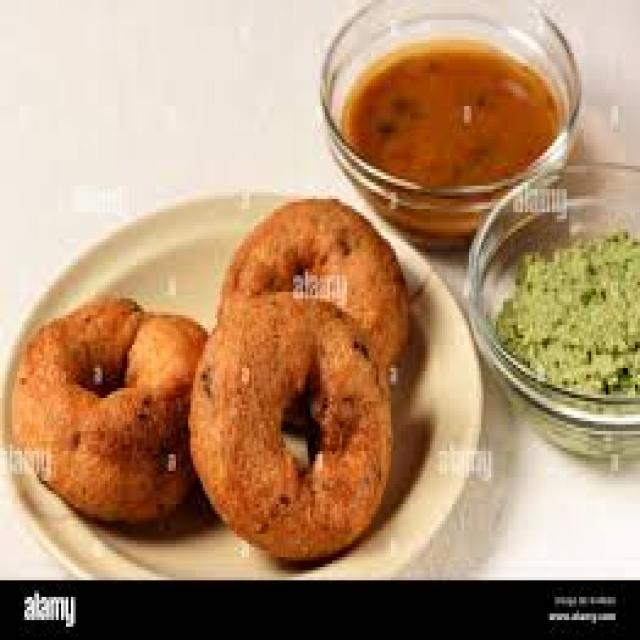MEDU VADA: (188, 287, 389, 545), (7, 295, 216, 522), (222, 187, 412, 372)
